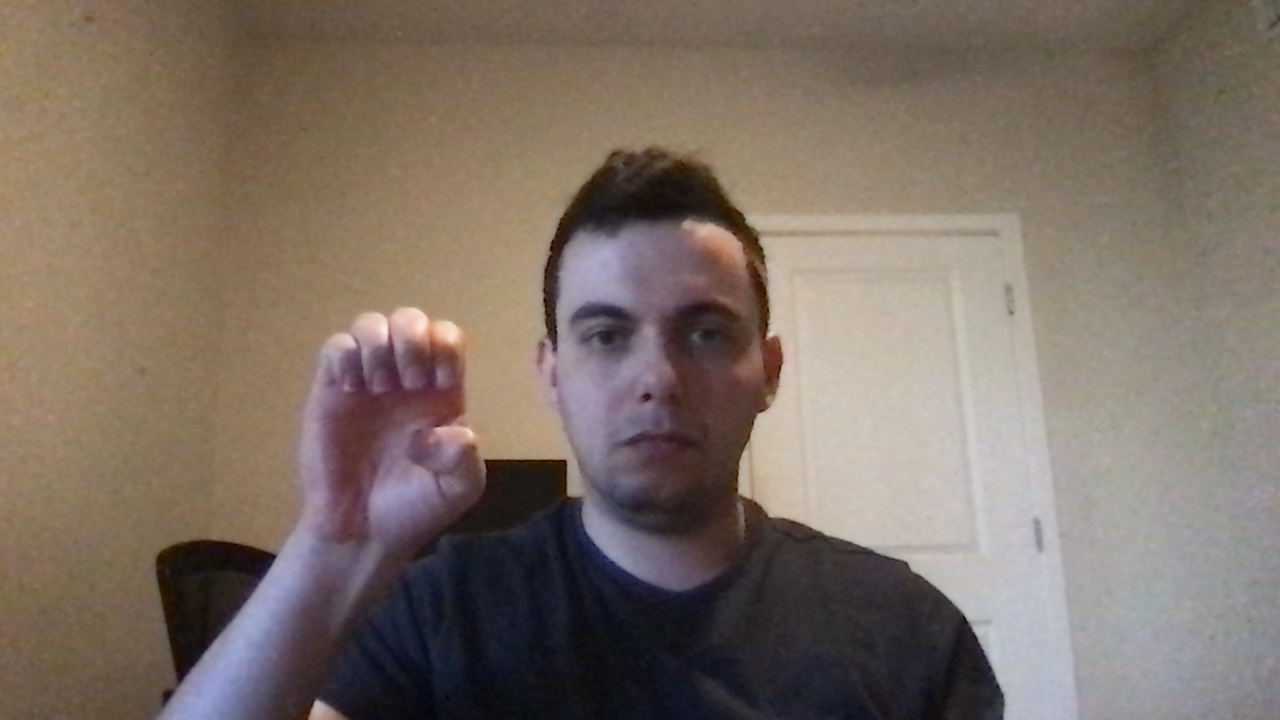e: (286, 295, 512, 568)
